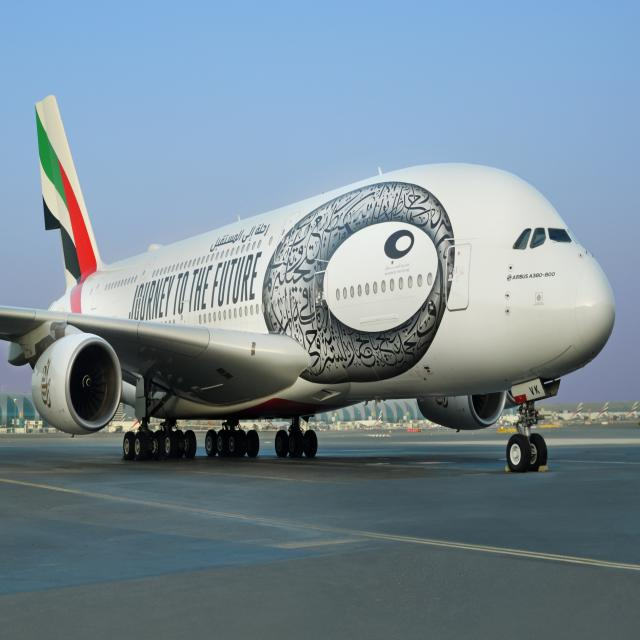A380: (6, 91, 618, 473)
